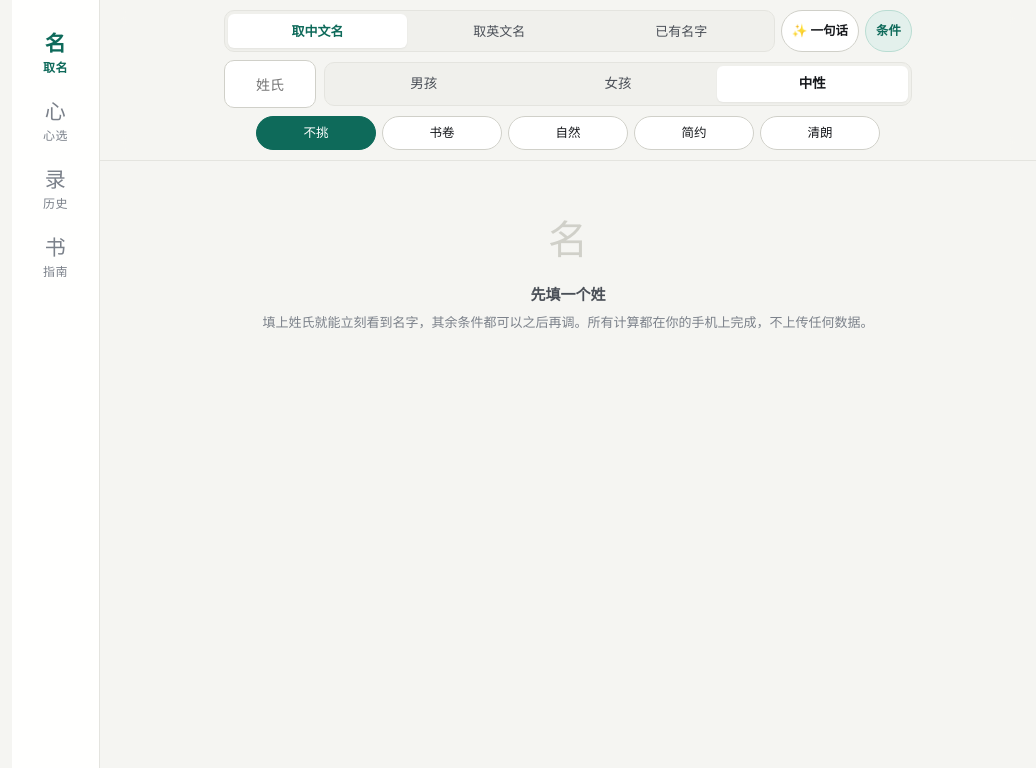
主流程 › 复姓也能用输入法打出来，不会被长度限制卡在半路
The image size is (1036, 768).
Step 1. Type "o" into the field named "宝宝的姓氏" → (270, 84), box [224, 60, 316, 108]
Step 2. Replace the text in the field named "宝宝的姓氏" with "ou" → (270, 84), box [224, 60, 316, 108]
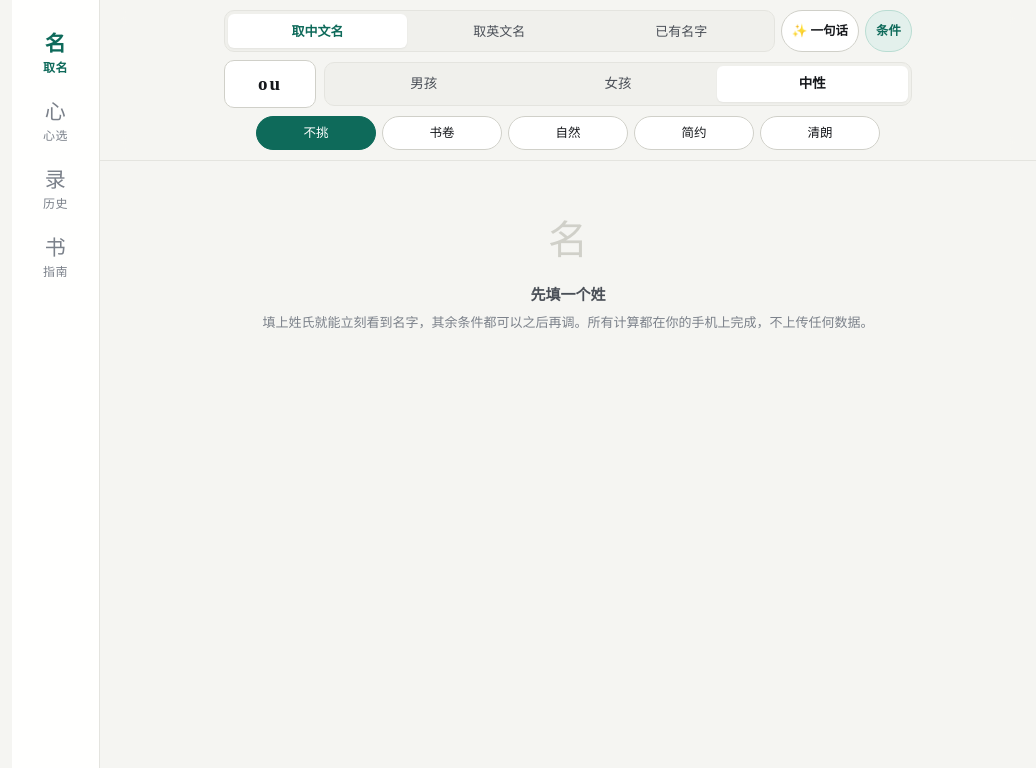
Step 3. Replace the text in the field named "宝宝的姓氏" with "ouy" → (270, 84), box [224, 60, 316, 108]
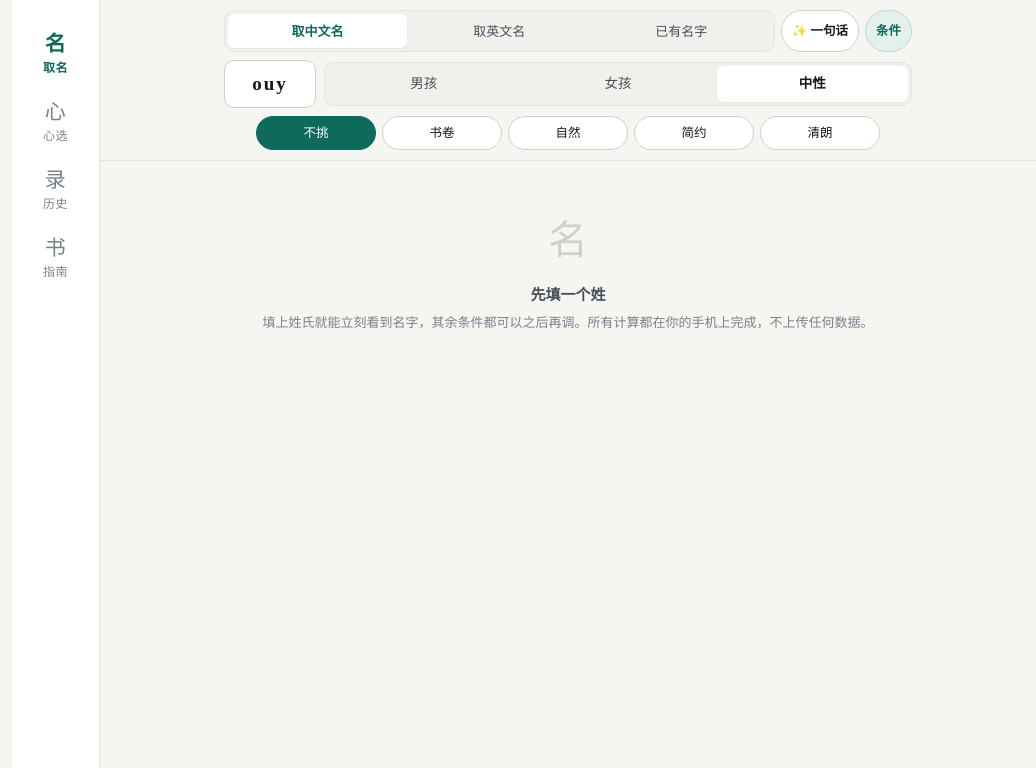
Step 4. Replace the text in the field named "宝宝的姓氏" with "ouya" → (270, 84), box [224, 60, 316, 108]
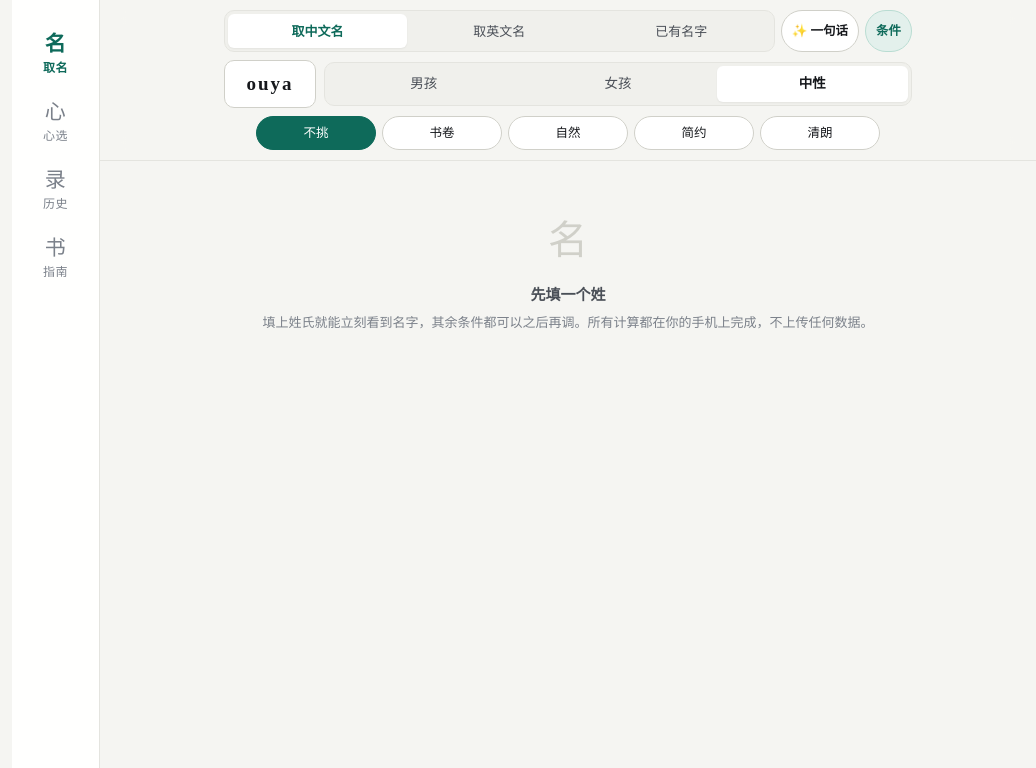
Step 5. Replace the text in the field named "宝宝的姓氏" with "ouyan" → (270, 84), box [224, 60, 316, 108]
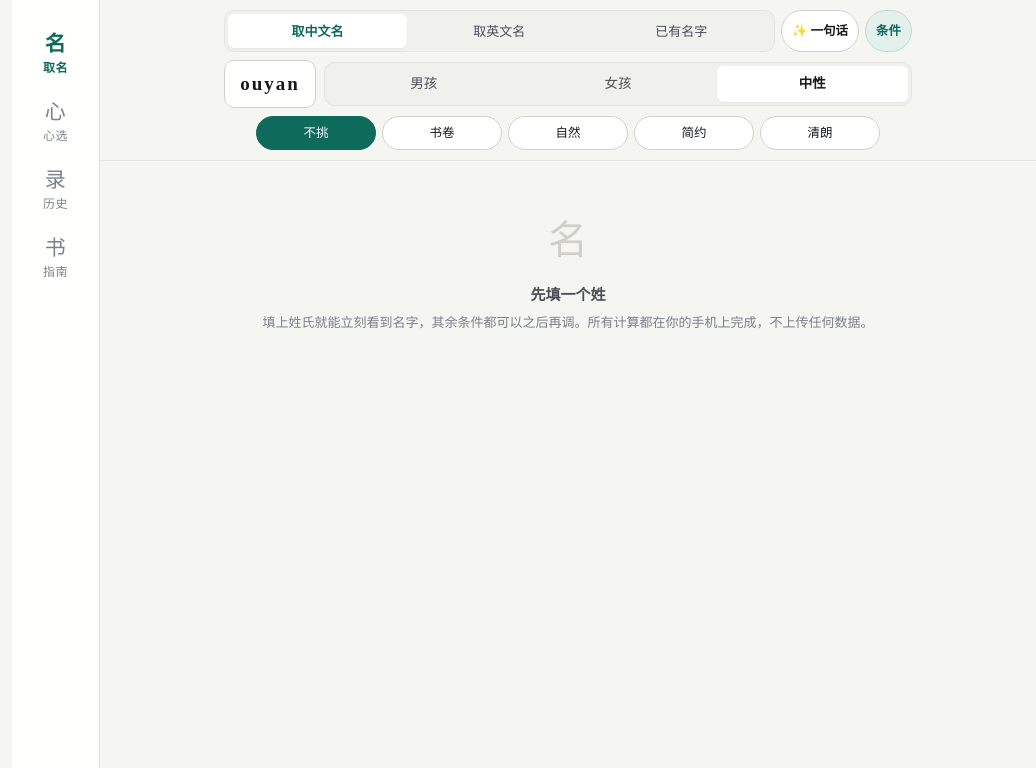
Step 6. Replace the text in the field named "宝宝的姓氏" with "ouyang" → (270, 84), box [224, 60, 316, 108]
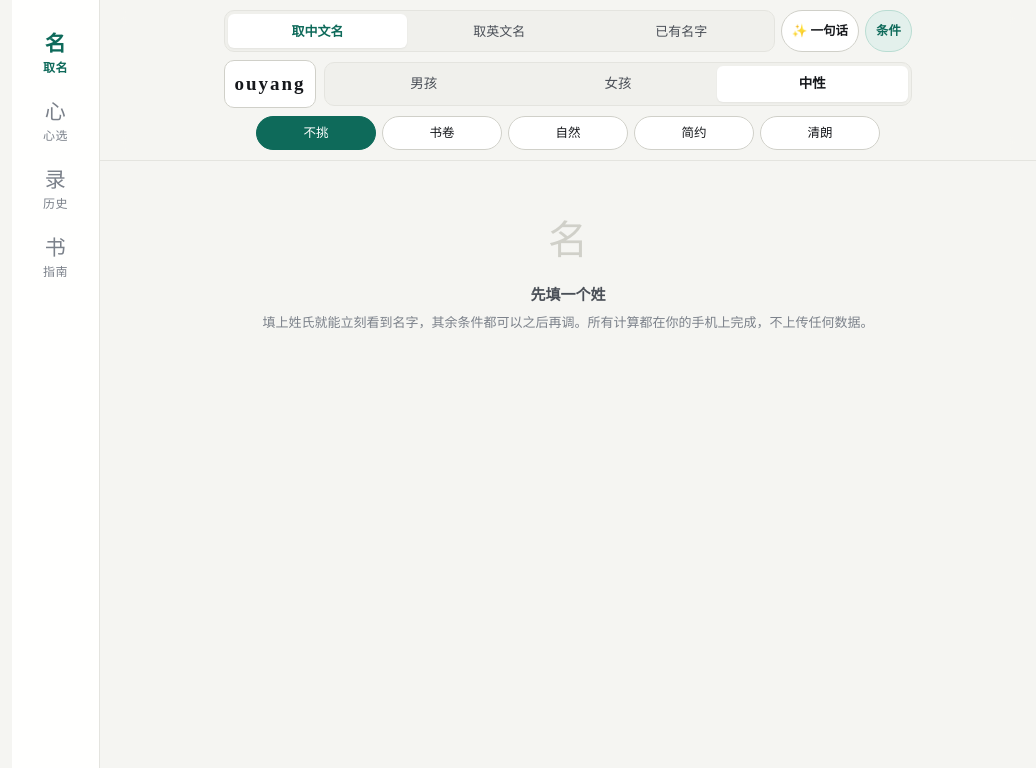
Step 7. Replace the text in the field named "宝宝的姓氏" with "欧阳" → (270, 84), box [224, 60, 316, 108]
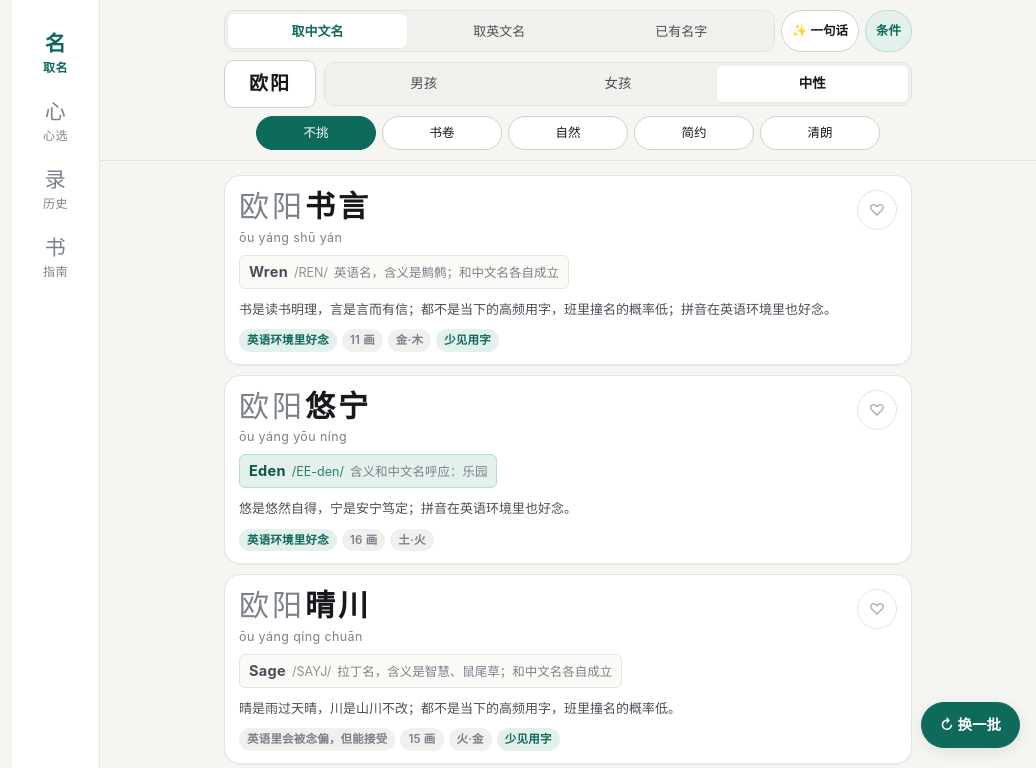
Expected: the button with aria-label "点开看详细解释" shows "欧阳", [224, 175, 912, 365]
